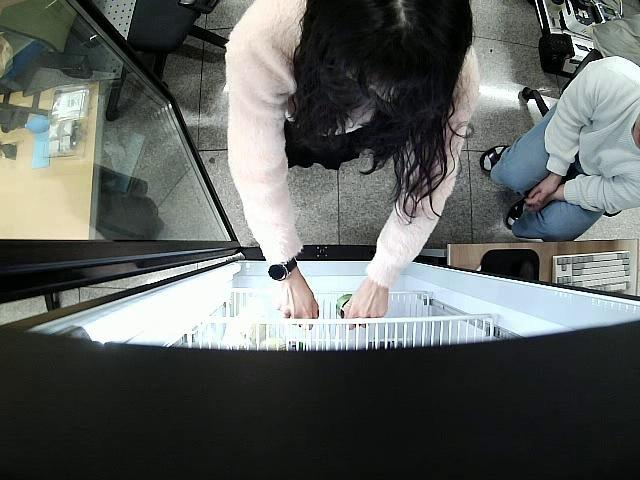19_17cha: (332, 294, 356, 322)
